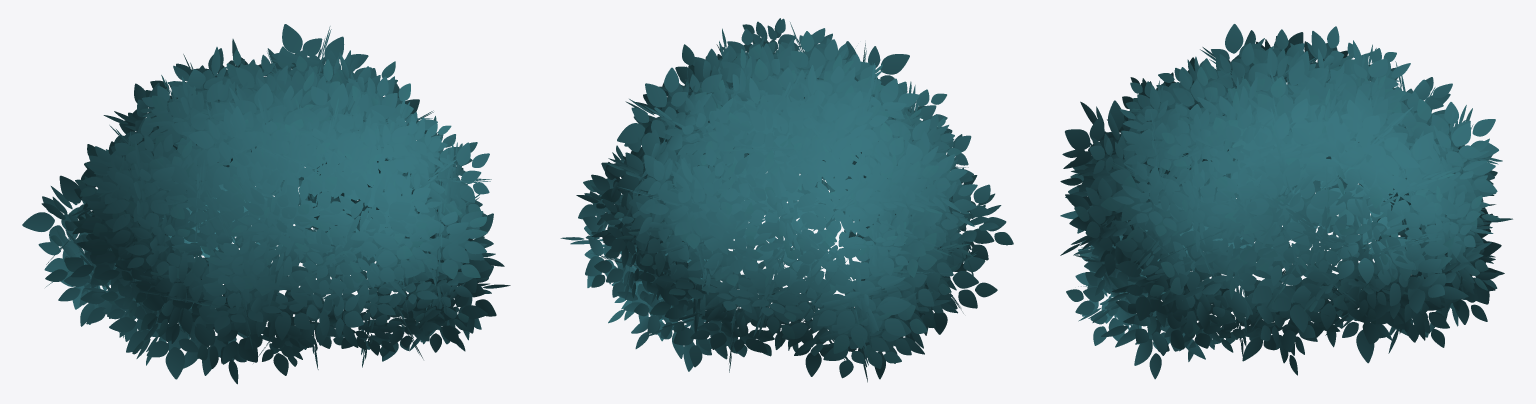
3 views of the same model, side by side, from view 1: azimuth 30°, elevation 25°; view 2: azimuth 150°, elevation 25°; view 3: azimuth 270°, elevation 25° (orthographic). The views are drawn at different scales.
Parts seen in each view (by area): view 1: submesh_0; view 2: submesh_0; view 3: submesh_0.
Part boxes in pixels (<box>): submesh_0: <box>22,24,510,384</box>; submesh_0: <box>560,18,1013,382</box>; submesh_0: <box>1060,24,1512,379</box>.
Size of the model in its own units: 2.01 by 1.44 by 2.18.
Materials: 1 (1 with a texture image).
